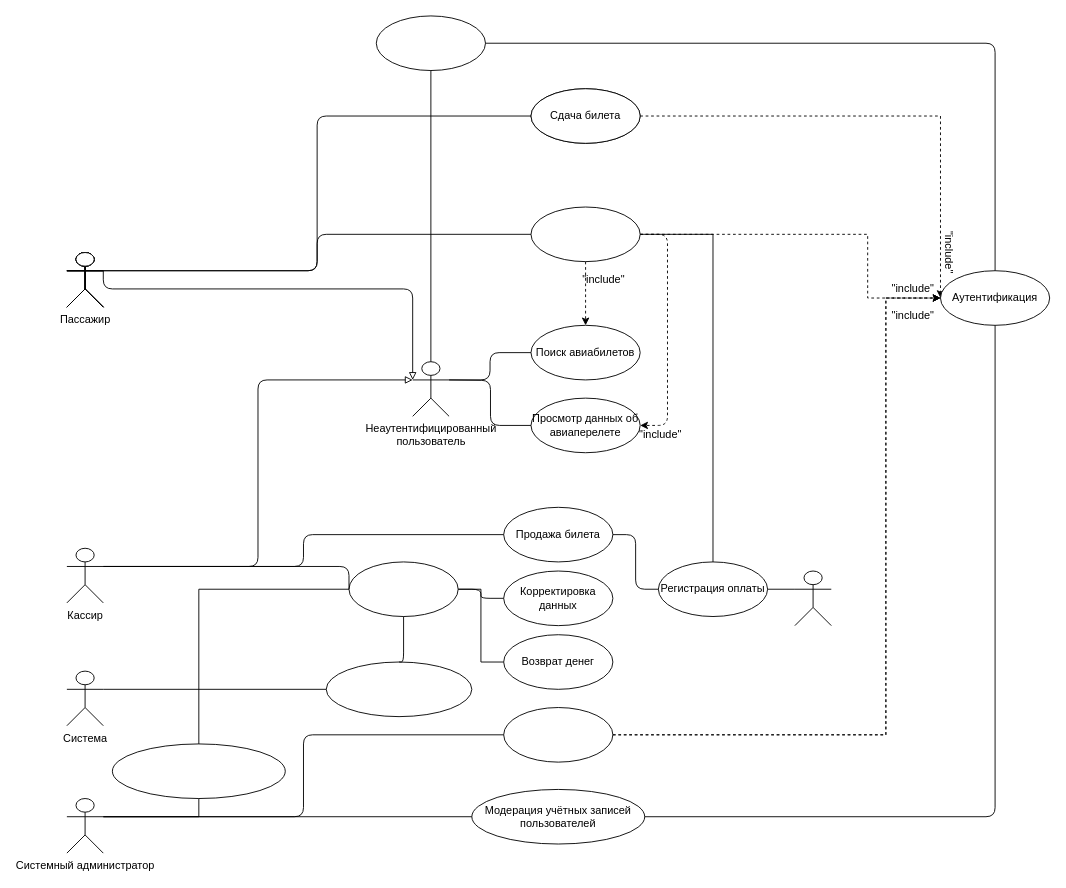
Some shapes in this 1066 by 888 pixel diagram are drawn without their labels. Here are the shapes that lost their labels. From the top down, the centre of each, then its label:
At (x=430, y=43): "Регистрация".
At (x=585, y=234): "Покупка билета".
At (x=403, y=589): "Управление билетами".
At (x=812, y=598): "Платежная система".
At (x=398, y=689): "Деактивация просроченных авиарейсов".
At (x=558, y=734): "Резервное копирование базы данных".
At (x=198, y=771): "Создание и корректировка данных об авиаперелете".
